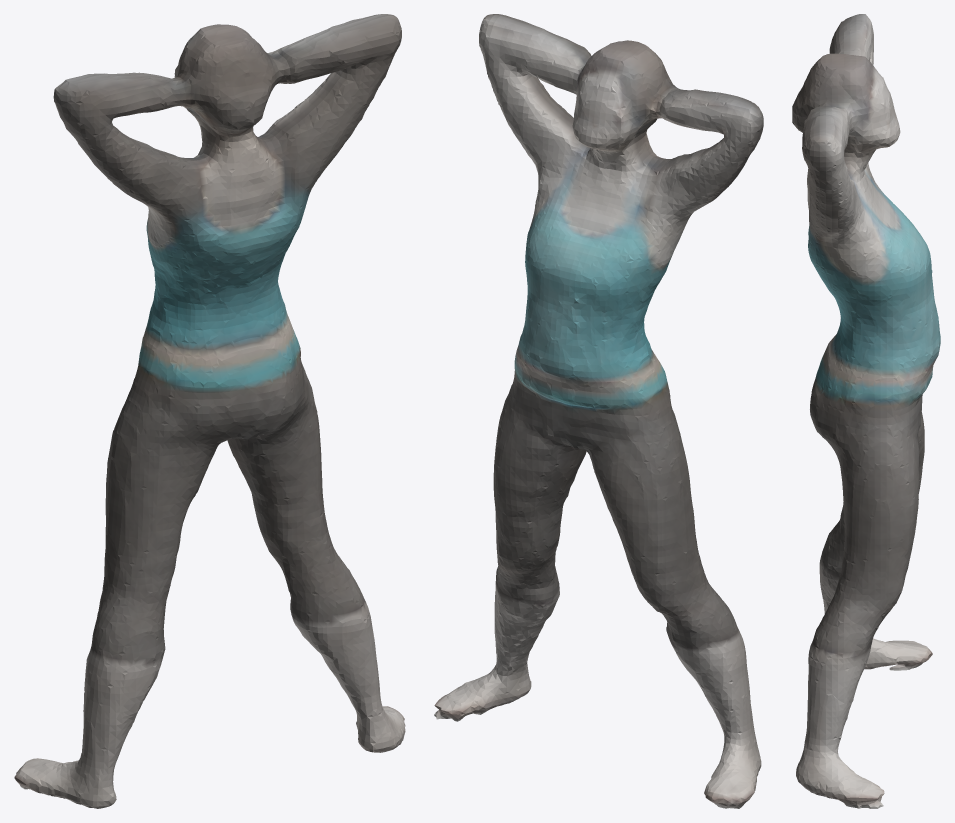
File: tmpmdxokgkr.glb
3 renders of one model, left to right at view 1: azimuth 30°, elevation 25°; view 2: azimuth 150°, elevation 25°; view 3: azimuth 270°, elevation 25°, orthographic. The views are drawn at different scales.
Parts seen in each view (by area): view 1: world; view 2: world; view 3: world.
Part boxes in pixels (x1,y1,x2,y2): world: [14, 14, 405, 808]; world: [434, 14, 763, 808]; world: [792, 14, 940, 808].
Bounding box in the file's own units: 0.9913 × 1.99 × 0.3999.
